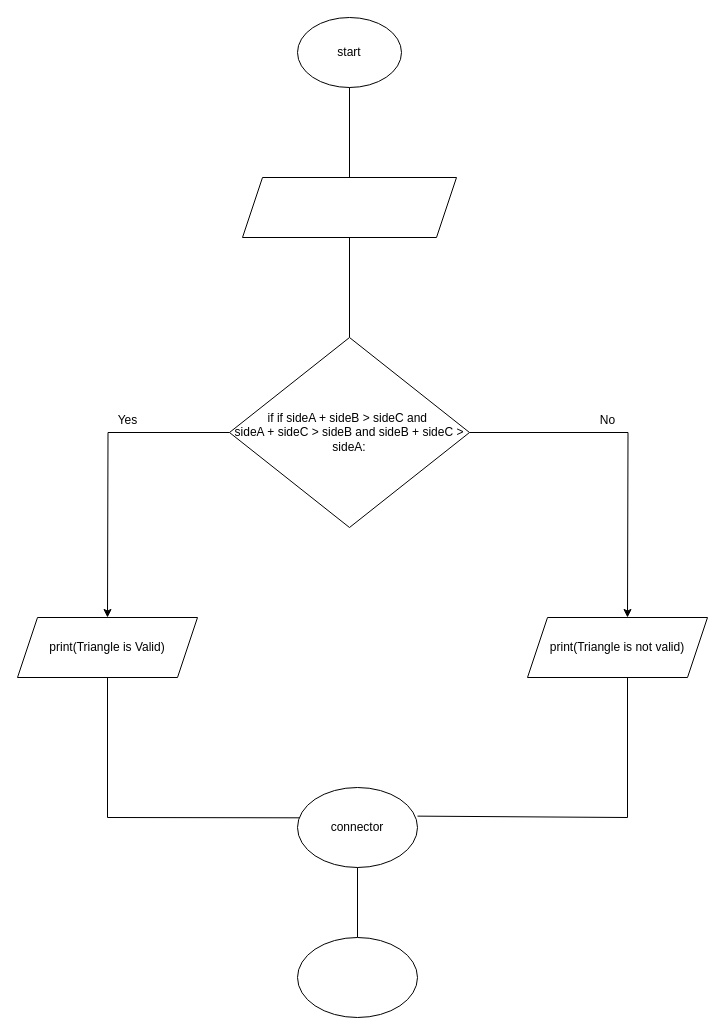
The diagram is 725 pixels wide and 1035 high, and some of its shapes have lost their labels. The shapes that lost their labels are listed below. From the top down, each one's centre as x and y in pixels, then its label:
At [349,207]: "input three sides of triangle a,b,c".
At [357,977]: "stop".
